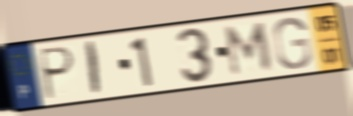1: (129, 34, 155, 90)
3: (175, 26, 216, 85)
G: (271, 15, 314, 71)
I: (85, 38, 102, 98)
M: (224, 20, 275, 78)
P: (38, 44, 77, 103)
